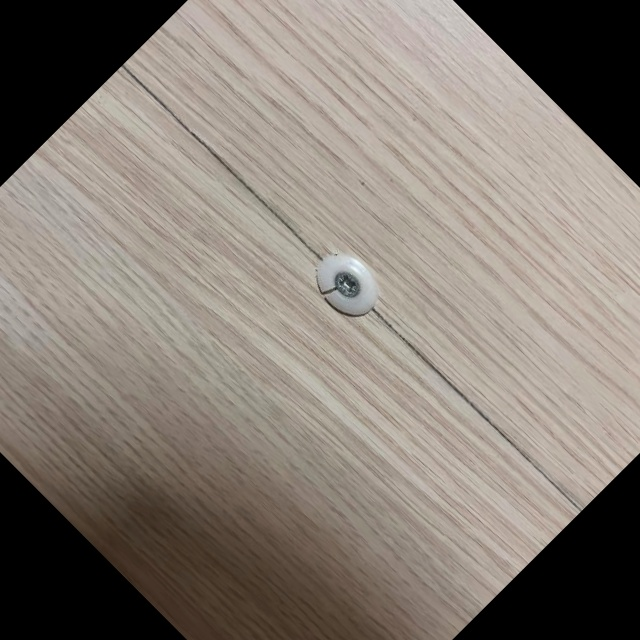pozidriv: (330, 266, 366, 303)
